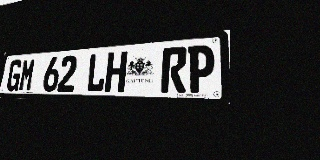2: (57, 55, 78, 92)
6: (42, 56, 62, 92)
G: (5, 59, 23, 91)
H: (104, 51, 128, 92)
L: (85, 53, 108, 92)
M: (18, 58, 36, 92)
P: (187, 44, 215, 93)
R: (161, 46, 187, 93)
